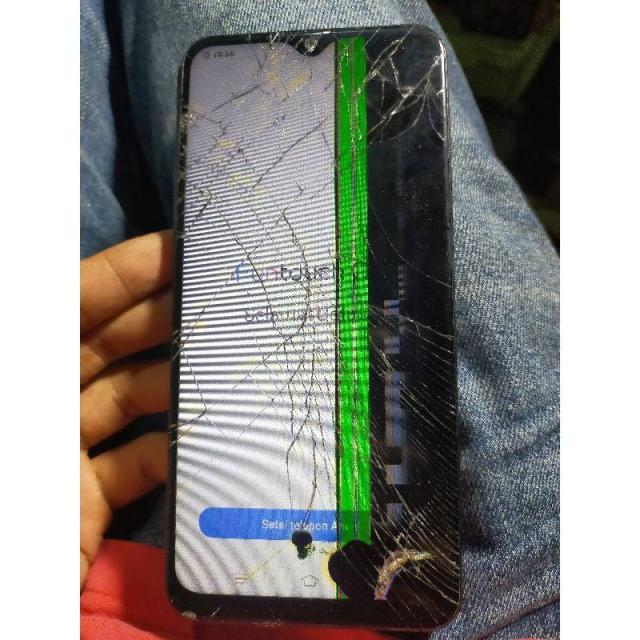phone: (189, 23, 460, 640)
